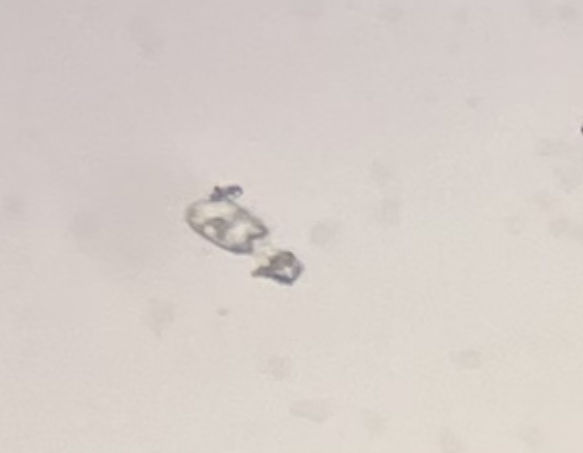microplastic: (183, 186, 305, 287)
